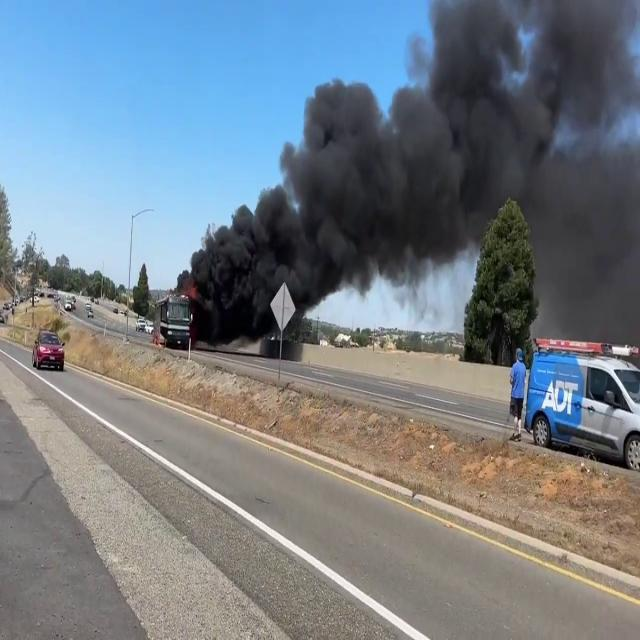Smoke: (187, 0, 640, 346)
